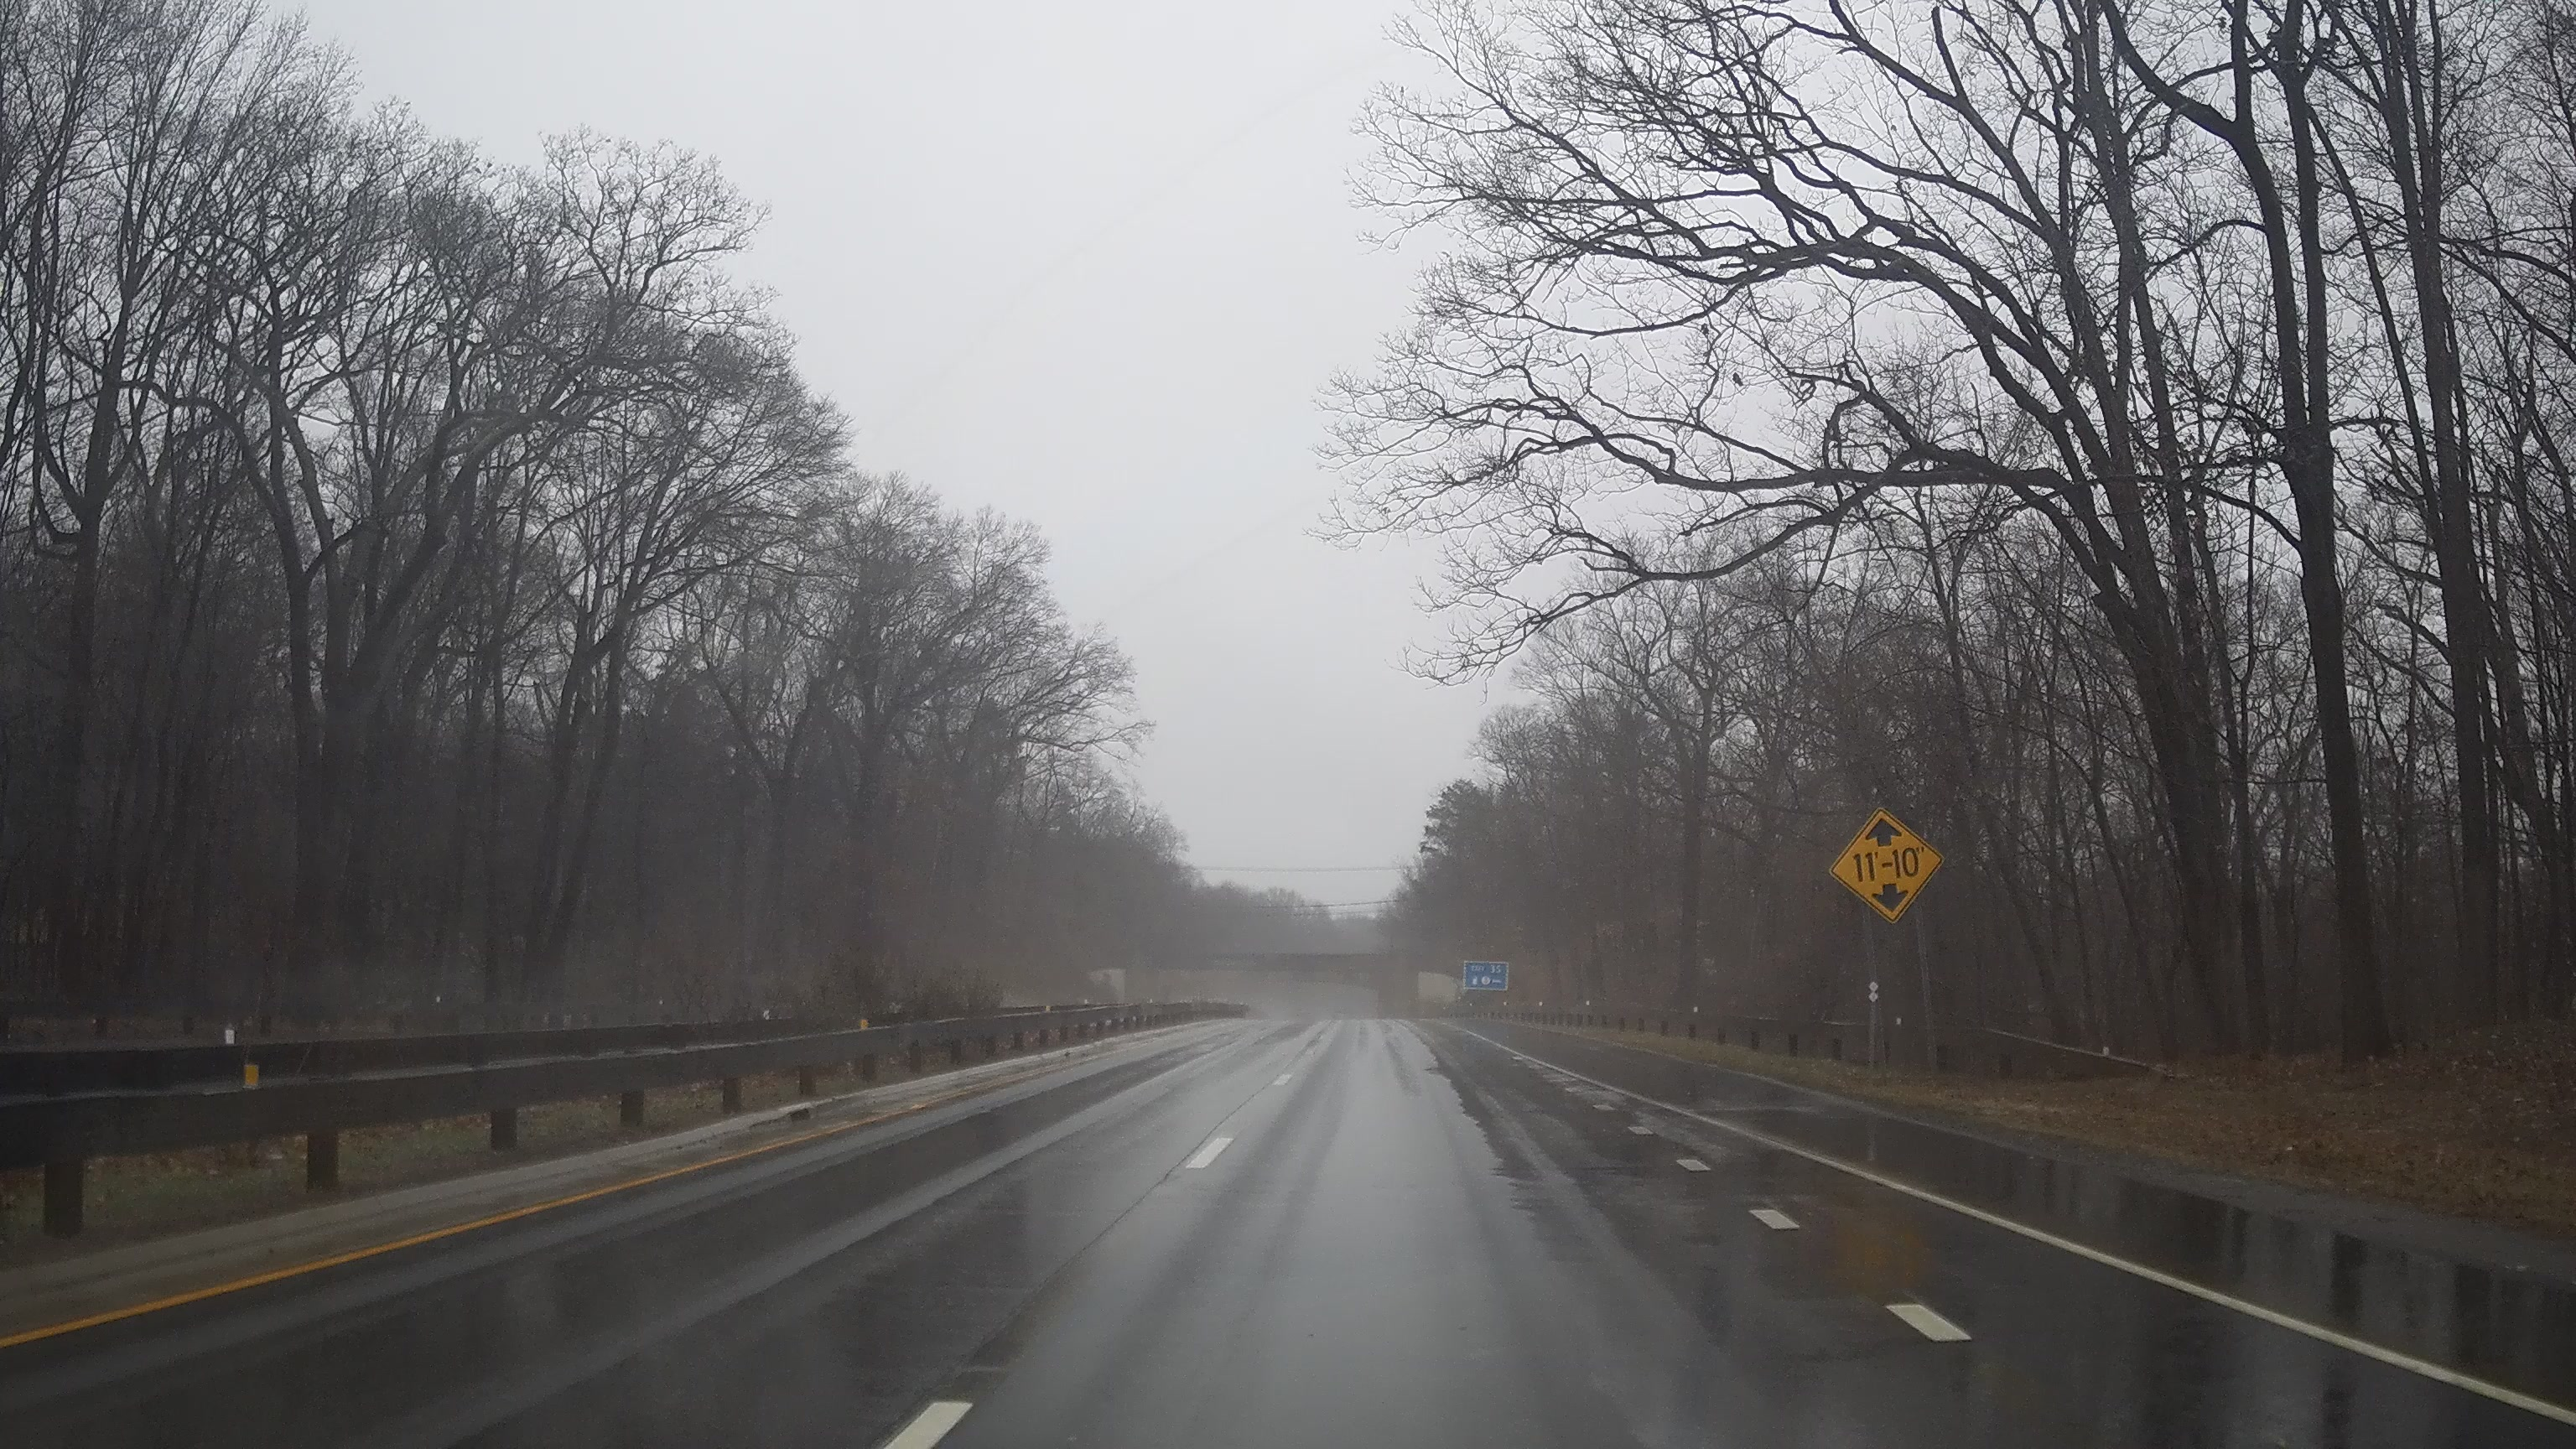low-clearance-sign: (1829, 807, 1946, 924)
